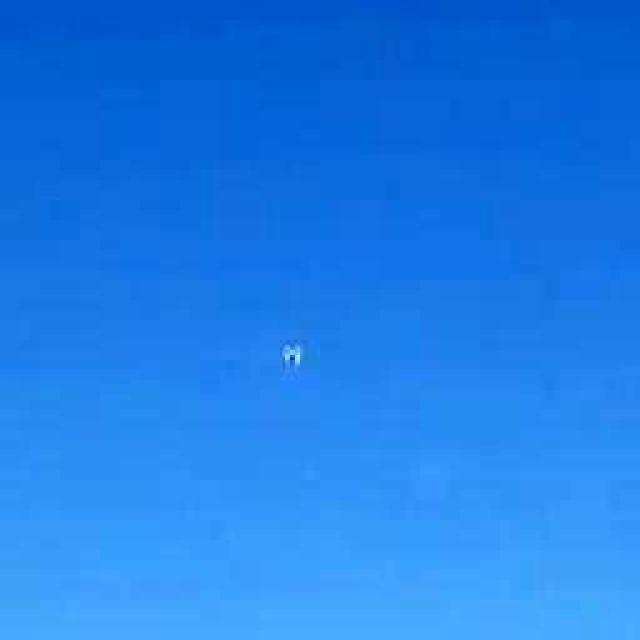bird: (244, 298, 344, 412)
